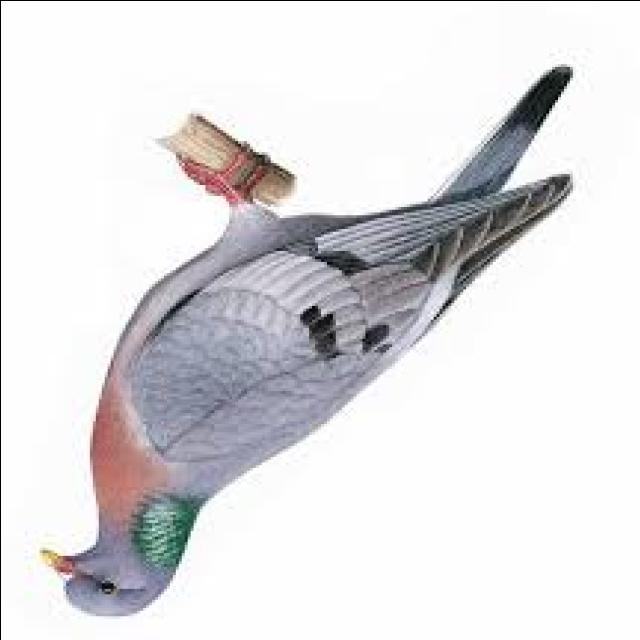pigeon: (7, 60, 576, 636)
